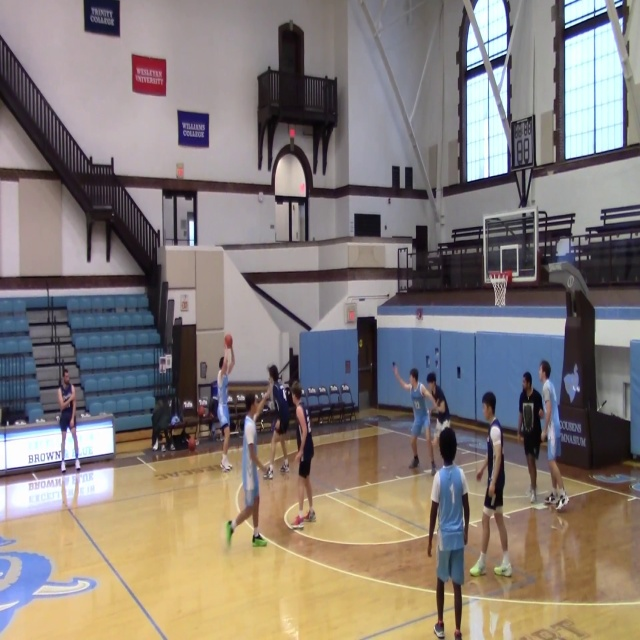Basketball: (224, 333, 232, 347), (188, 438, 196, 450)
